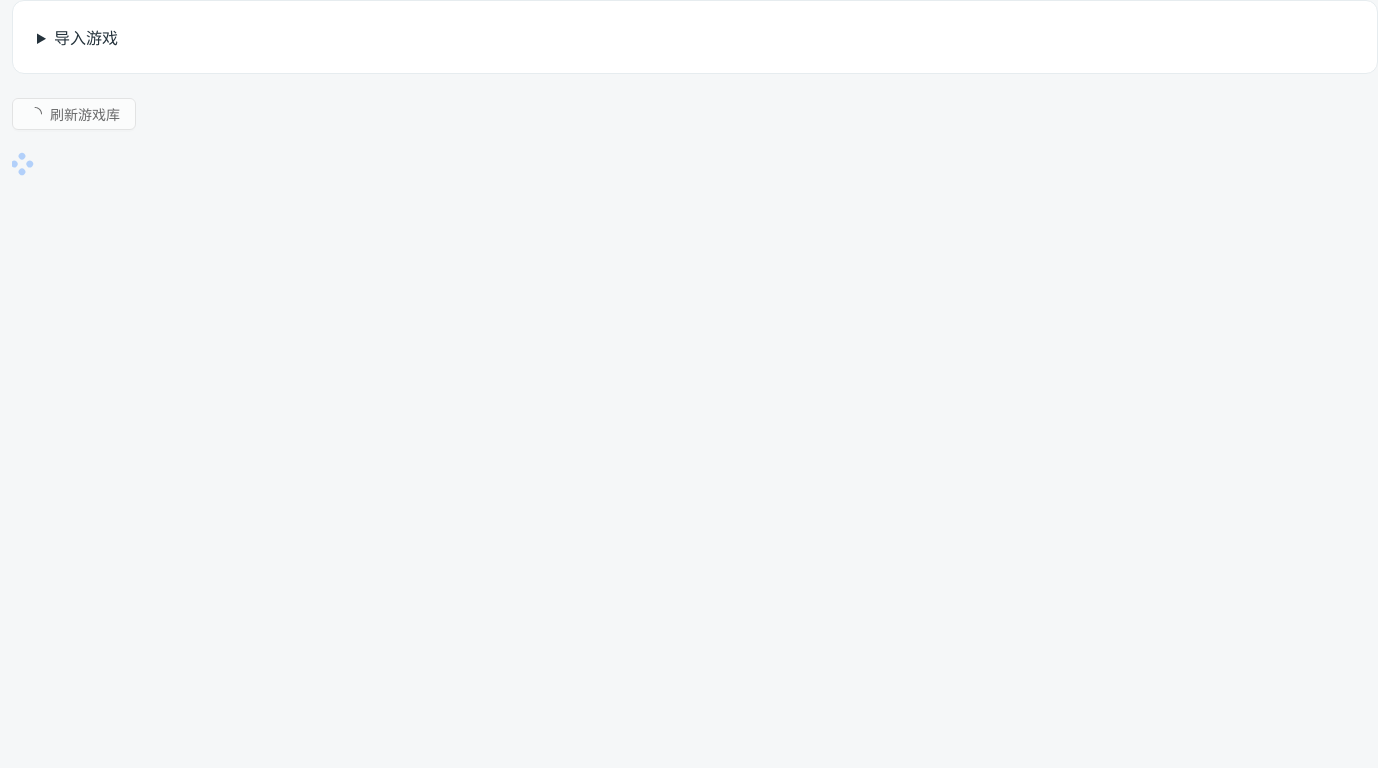
Test case: retries a failed settings load and explains import failures in Chinese
The width and height of the screenshot is (1378, 768).
Click the heading "导入游戏" at point(86, 38), box 54,30 -> 118,47
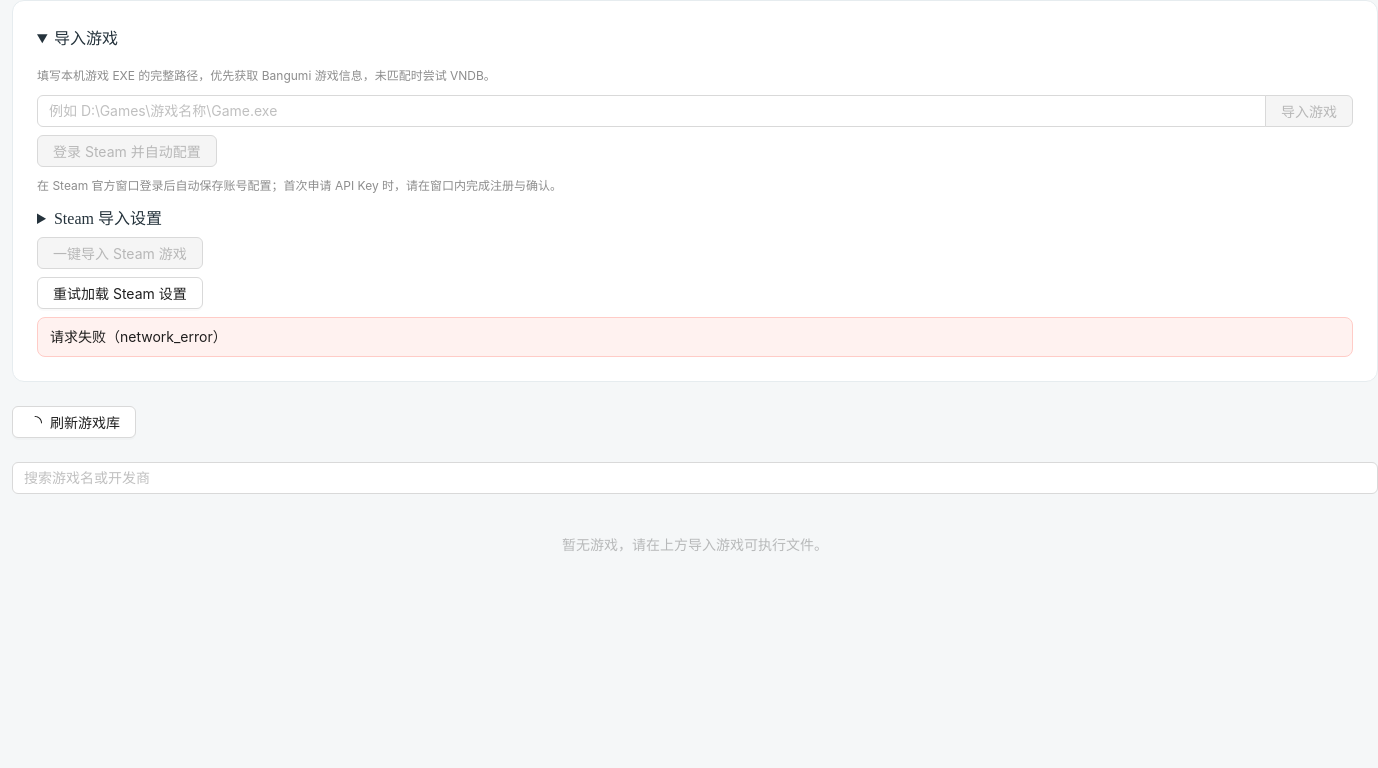
Click the button "重试加载 Steam 设置" at point(120, 293), box 37,277 -> 203,309
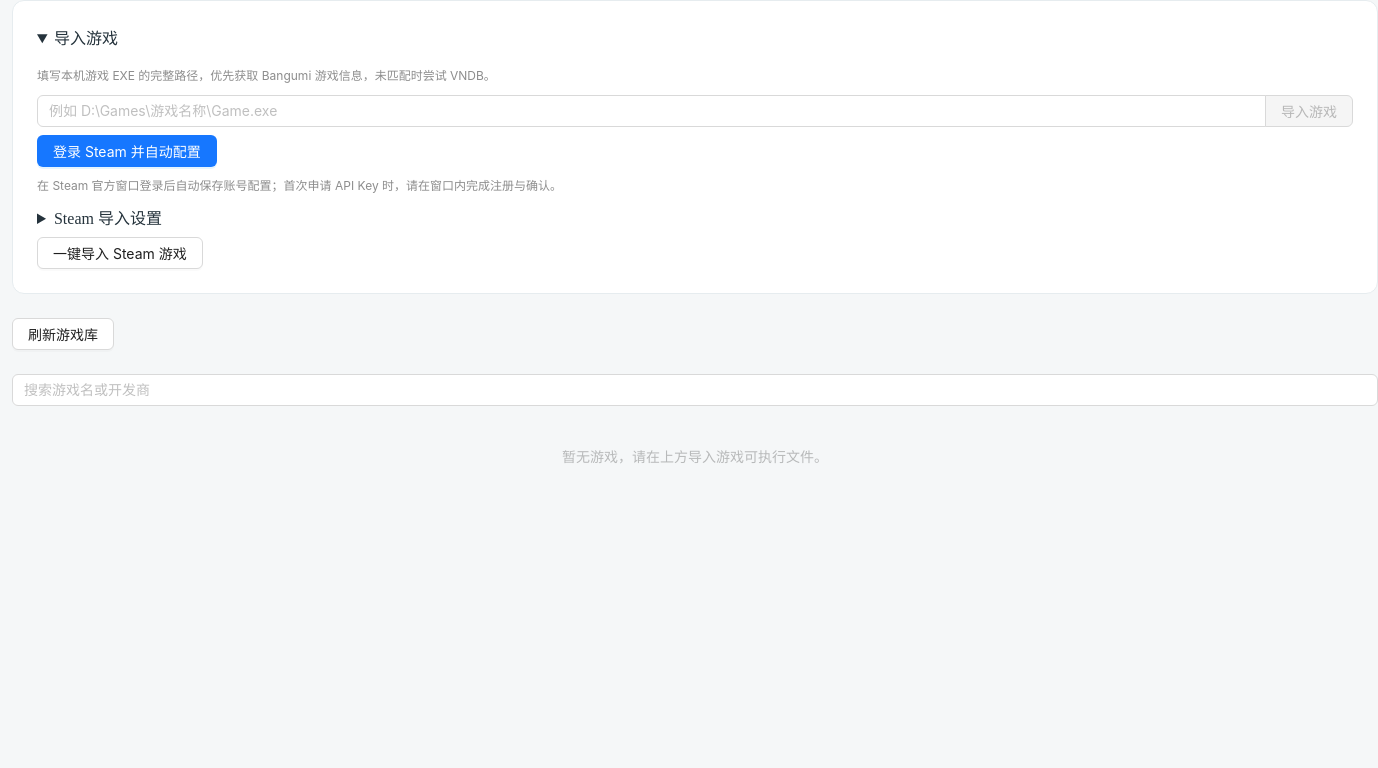
Expected: the button "一键导入 Steam 游戏" is enabled
Click the button "一键导入 Steam 游戏" at point(120, 253), box 37,237 -> 203,269
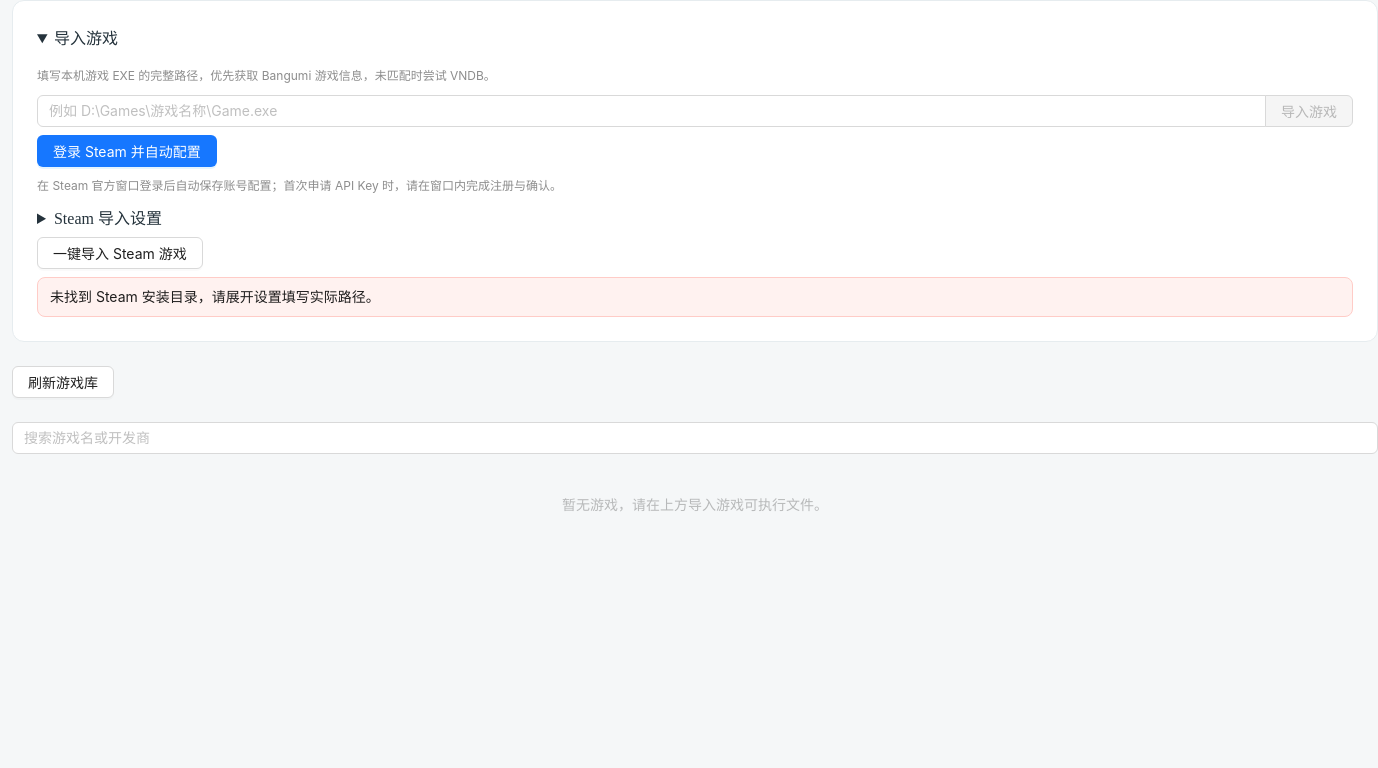
Expected: the text "未找到 Steam 安装目录，请展开设置填写实际路径。" is shown, 50,288 -> 380,305
